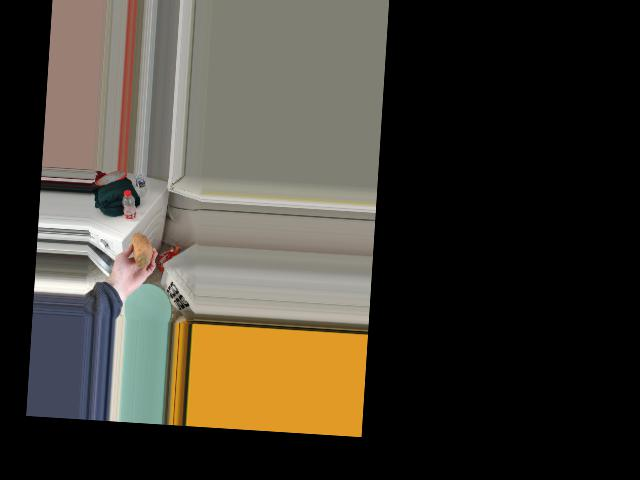sweet_potato: (132, 231, 152, 272)
